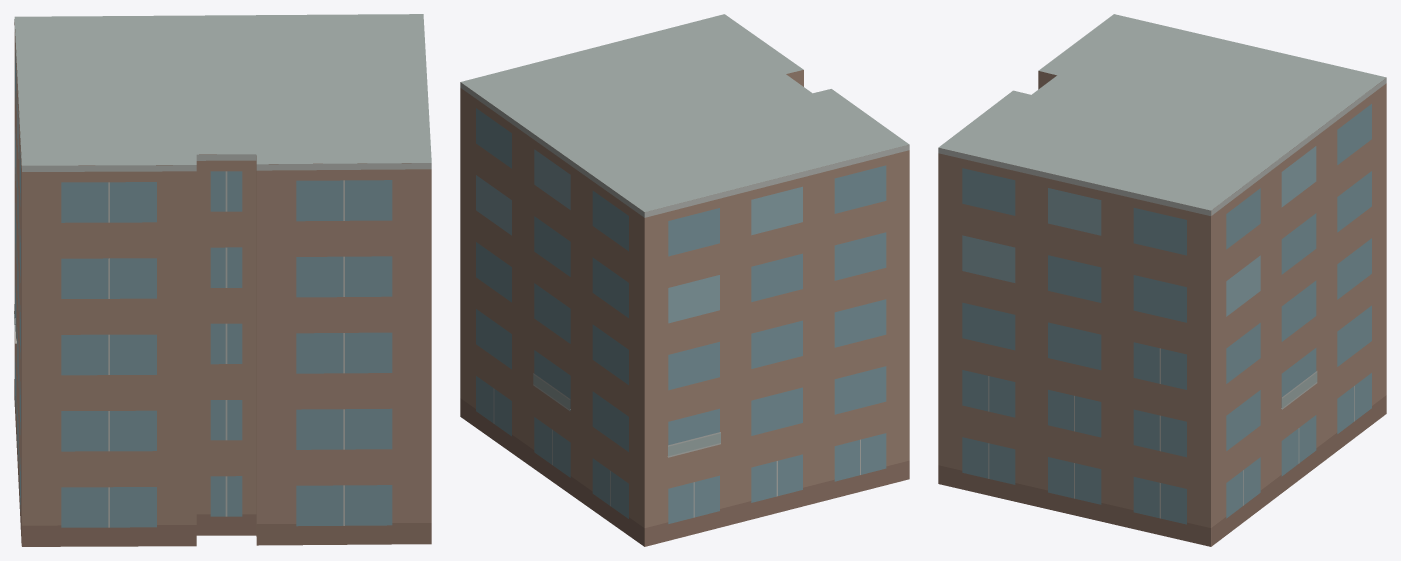
Rendered from survey-upis-32870620.glb.
3 views of the same model, side by side, from view 1: azimuth 30°, elevation 25°; view 2: azimuth 150°, elevation 25°; view 3: azimuth 270°, elevation 25° (orthographic). The views are drawn at different scales.
Parts seen in each view (by area): view 1: survey-upis-32870620.tmp; view 2: survey-upis-32870620.tmp; view 3: survey-upis-32870620.tmp.
Boxes of the visible parts, x1,y1,x2,y2 form: survey-upis-32870620.tmp: [14, 14, 431, 546]; survey-upis-32870620.tmp: [460, 14, 909, 546]; survey-upis-32870620.tmp: [938, 14, 1386, 546].
Bounding box in the file's own units: 18.25 × 14.55 × 17.59.
